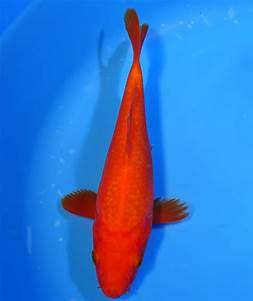red: (59, 8, 191, 299)
